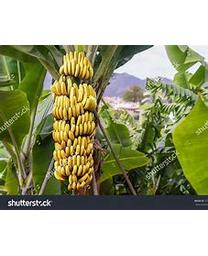banana: (50, 54, 96, 194)
